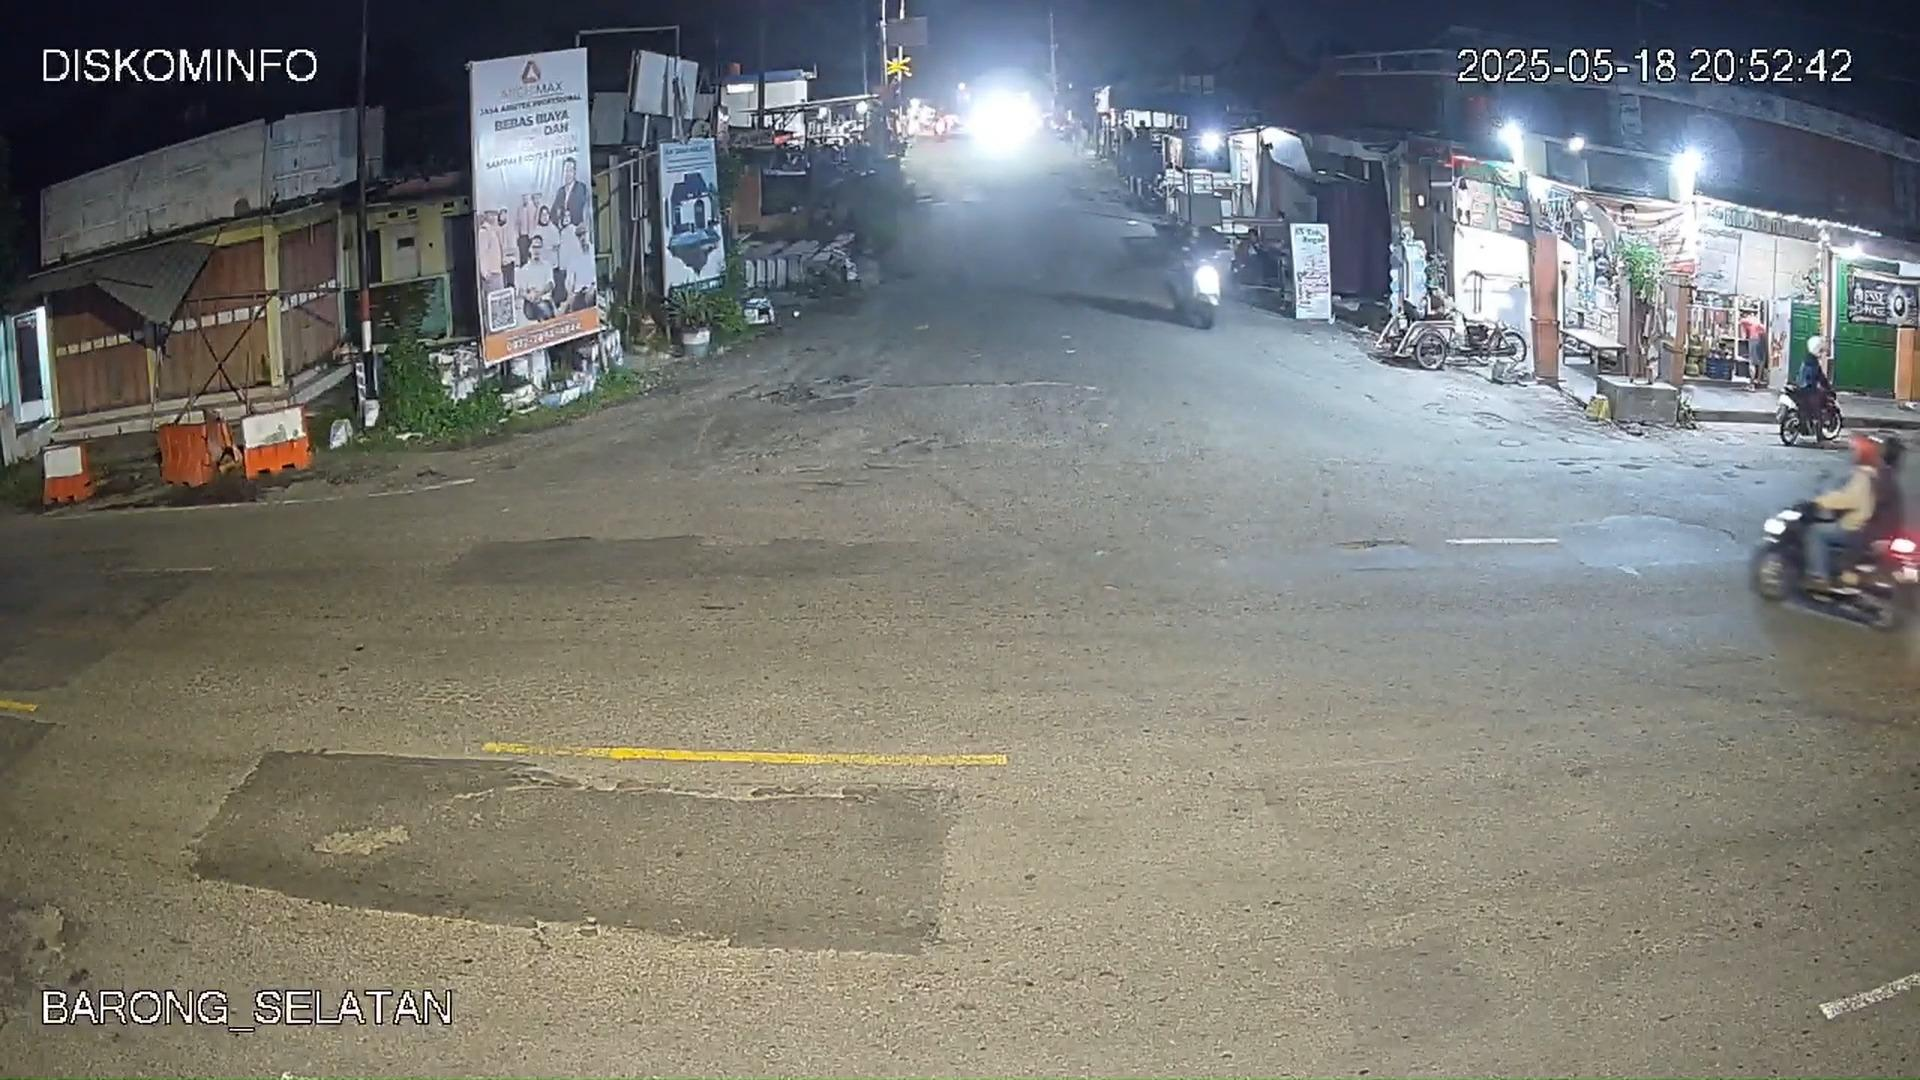Motor: (1751, 491, 1920, 633), (1122, 210, 1217, 326)
